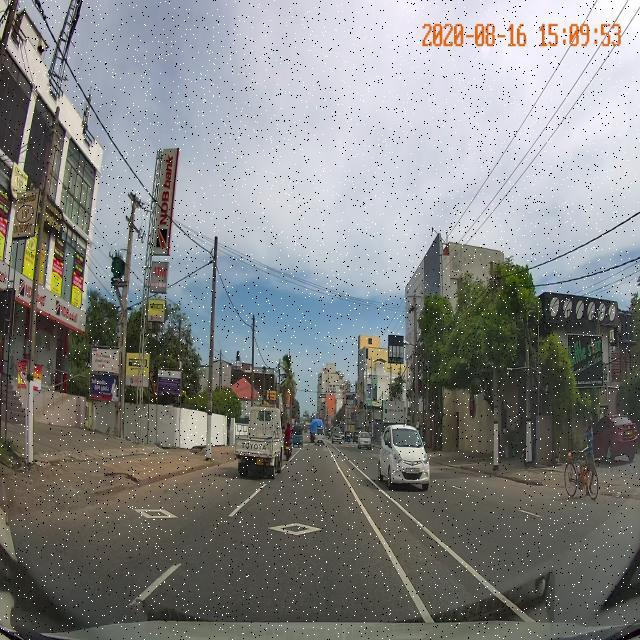diamond: (194, 509, 397, 550)
